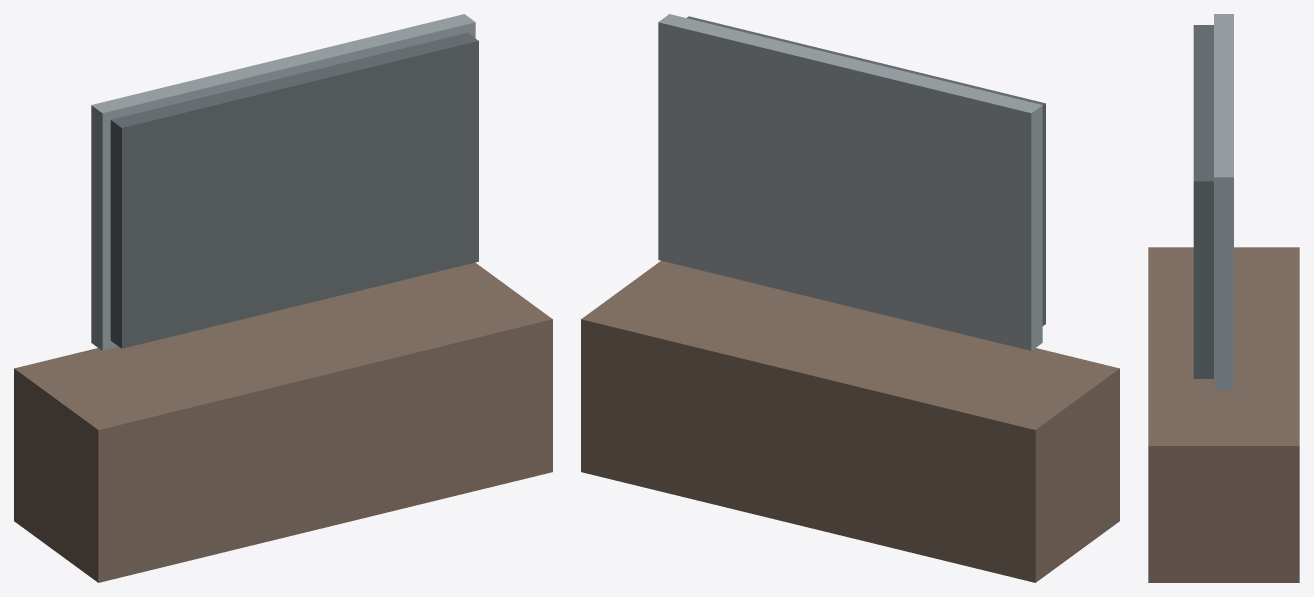
File: stereo_basic.glb
The picture shows the model from 3 angles, left to right: view 1: azimuth 30°, elevation 25°; view 2: azimuth 150°, elevation 25°; view 3: azimuth 270°, elevation 25°; orthographic projection. The views are drawn at different scales.
Parts seen in each view (by area): view 1: p000, p001, p002; view 2: p000, p002, p001; view 3: p000, p002, p001.
Boxes of the visible parts, x1,y1,x2,y2 form: p000: (14,262,552,582); p001: (110,32,478,348); p002: (91,14,475,350); p000: (581,260,1119,582); p002: (658,14,1042,350); p001: (687,16,1045,325); p000: (1148,247,1299,582); p002: (1214,14,1233,390); p001: (1193,25,1213,378).
Size of the model in its own units: 1.4 by 1.27 by 0.45.
